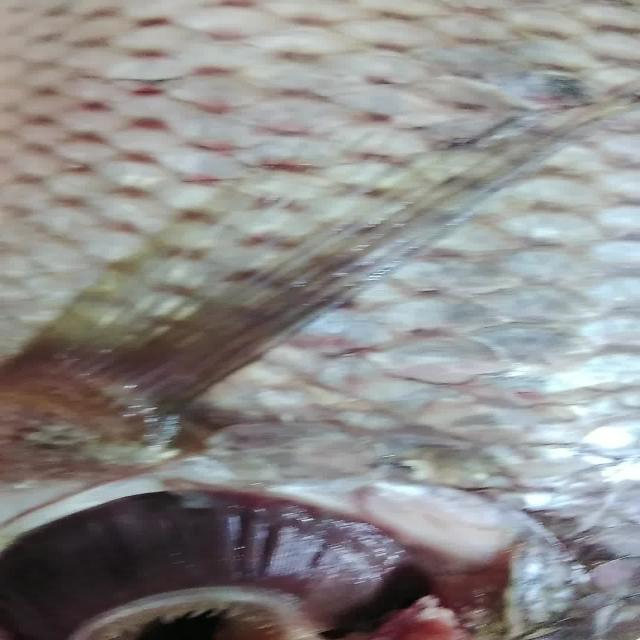Non-Fresh: (23, 476, 440, 640)
